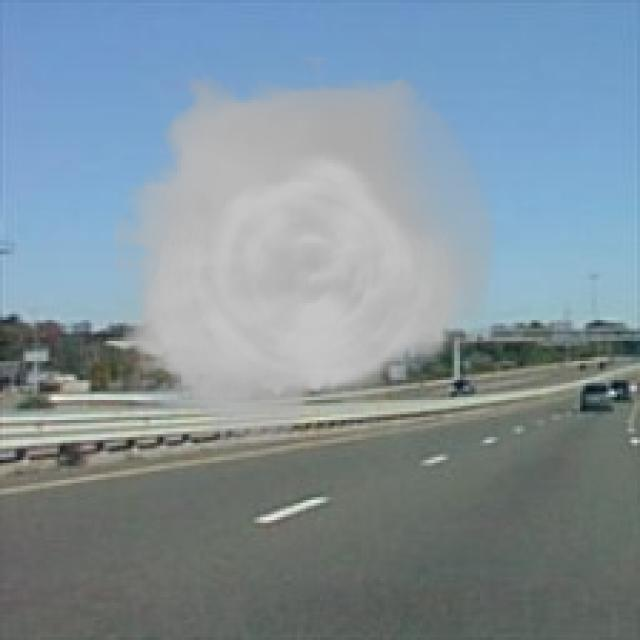Smoke: (114, 57, 497, 457)
